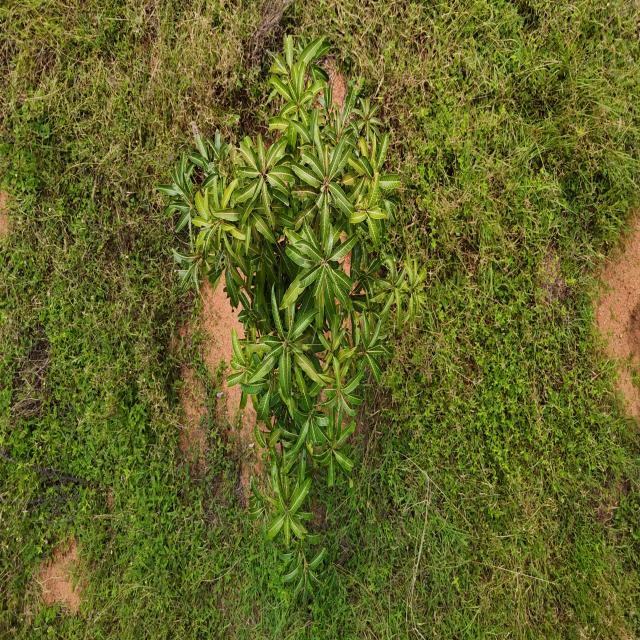mangoTree: (152, 33, 431, 612)
